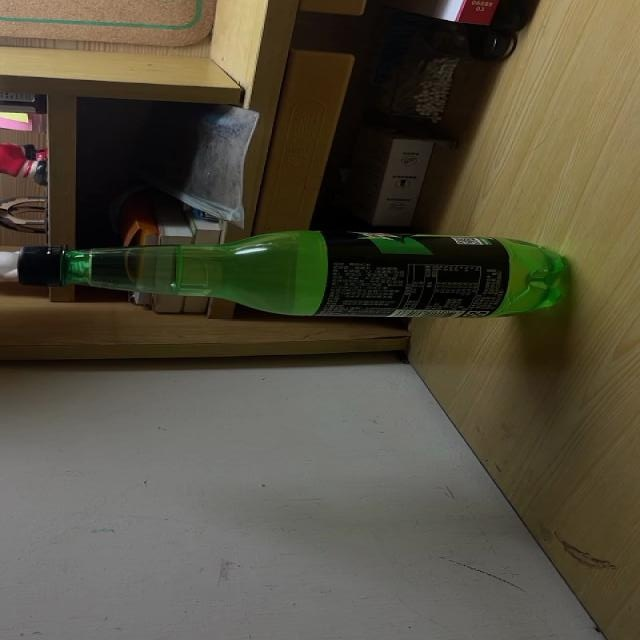Mountain-Dew: (12, 227, 578, 317)
